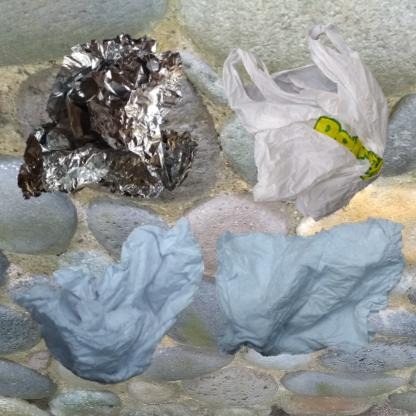aluminio: (10, 10, 237, 256)
bolsa: (213, 10, 416, 252)
papel: (10, 213, 206, 387), (213, 213, 409, 361)
